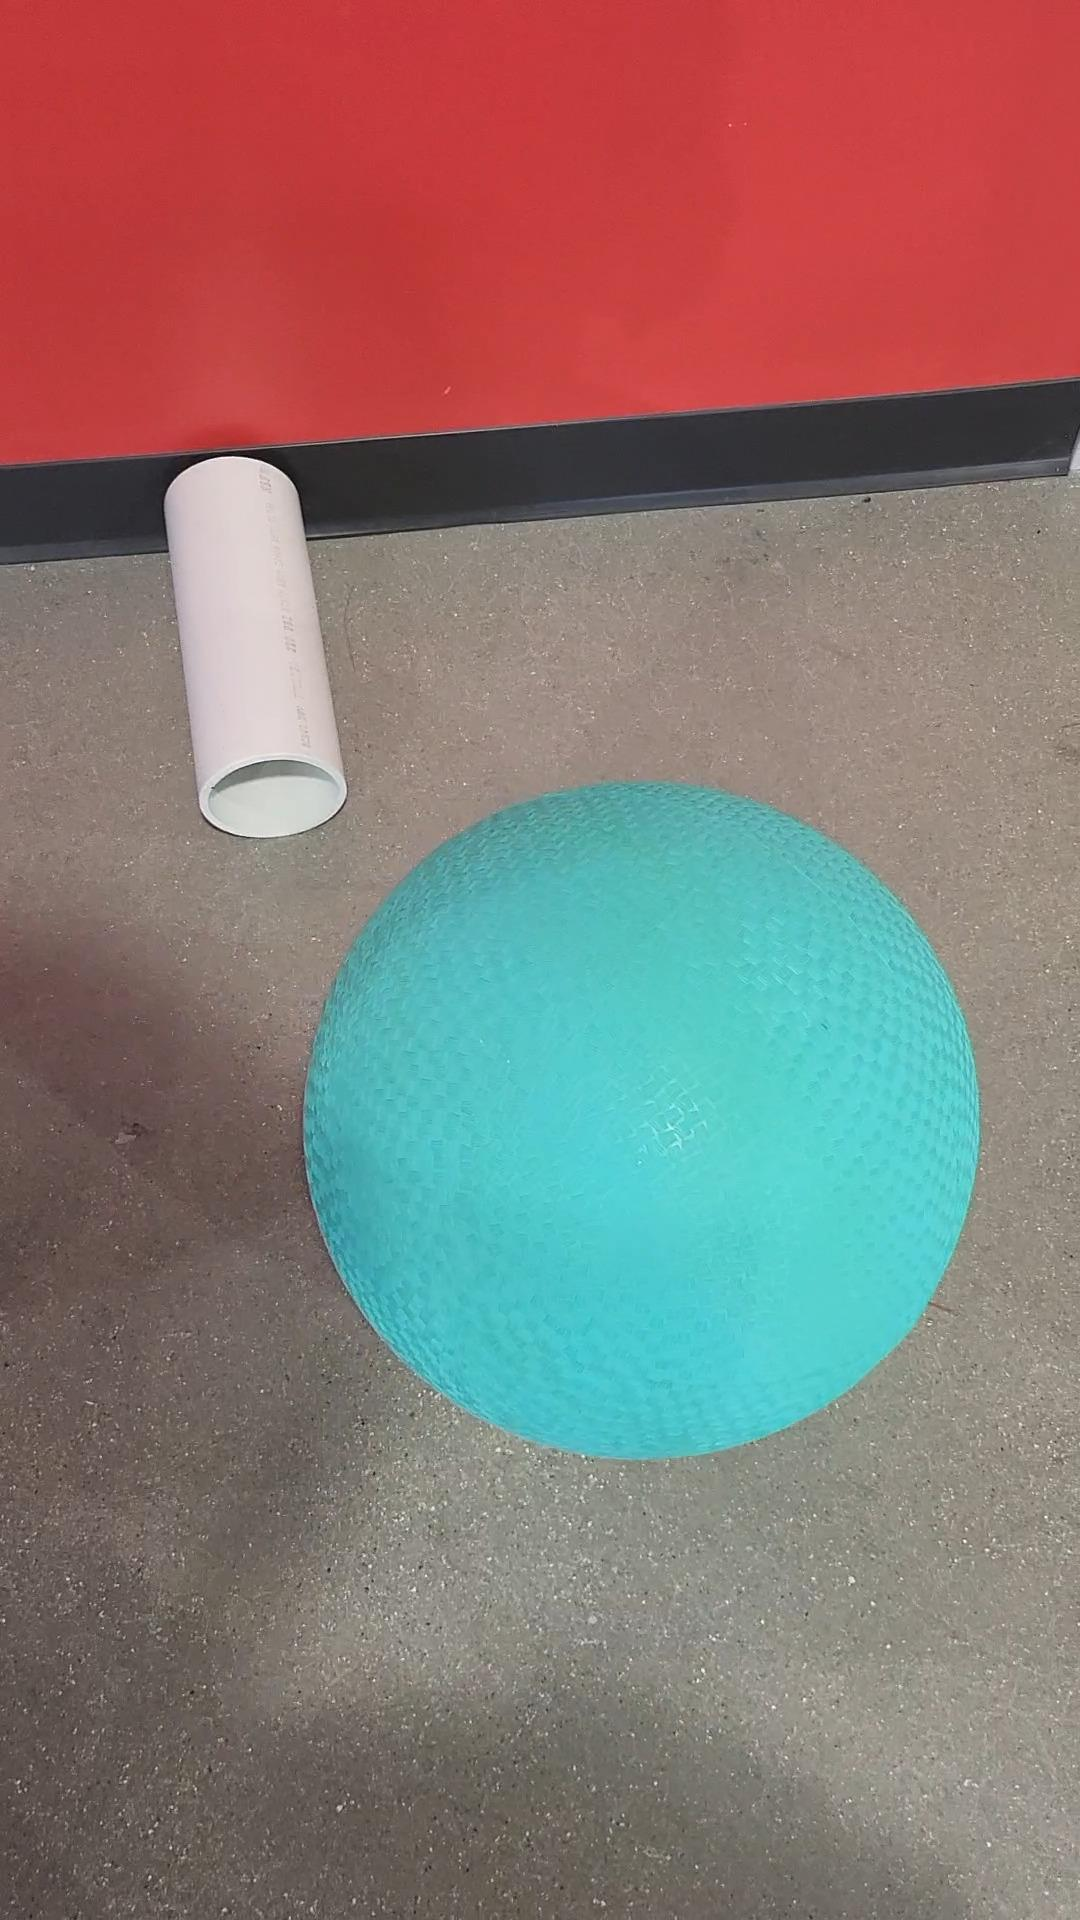algae: (311, 766, 967, 1477)
coral: (152, 440, 367, 861)
